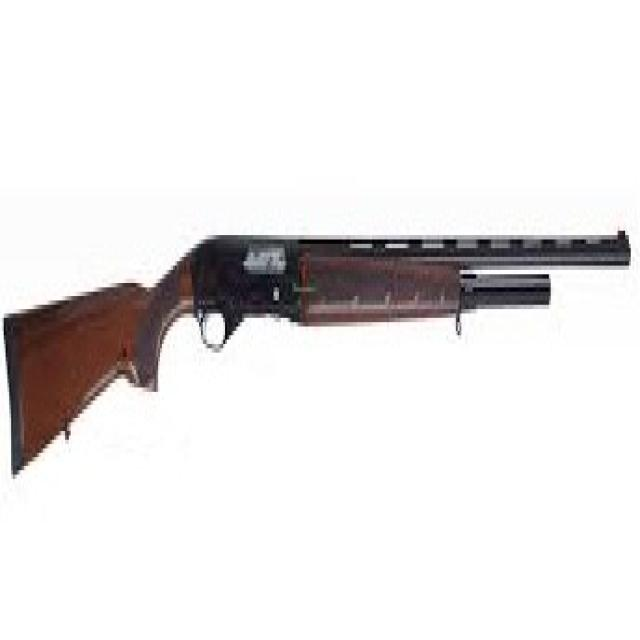rifle: (3, 201, 633, 487)
